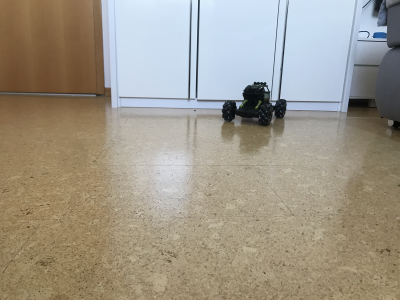remote control car: (221, 80, 289, 127)
